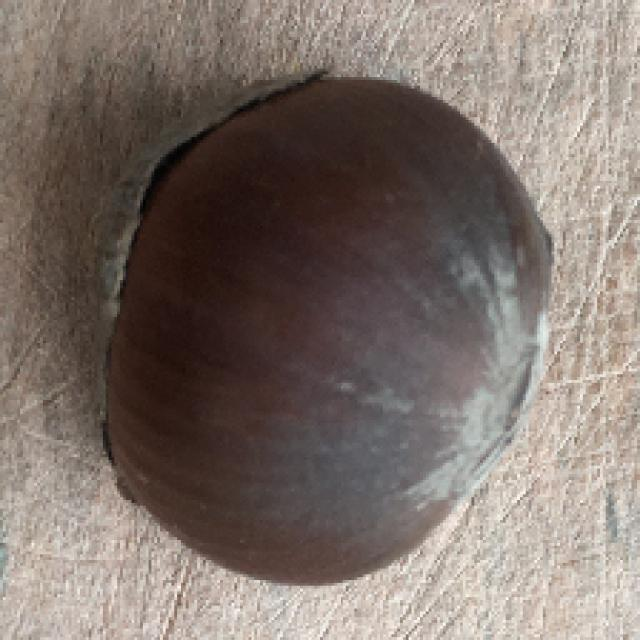DamagedHazelnut: (93, 77, 552, 586)
